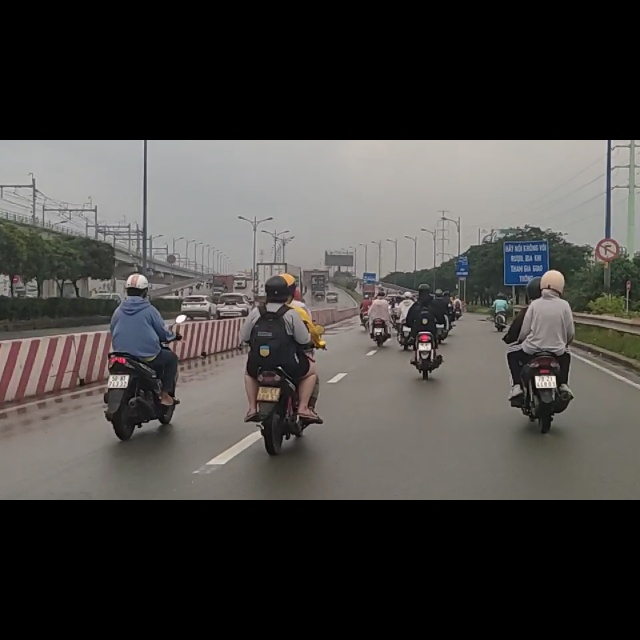bien_chi_dan: (597, 178, 620, 216)
